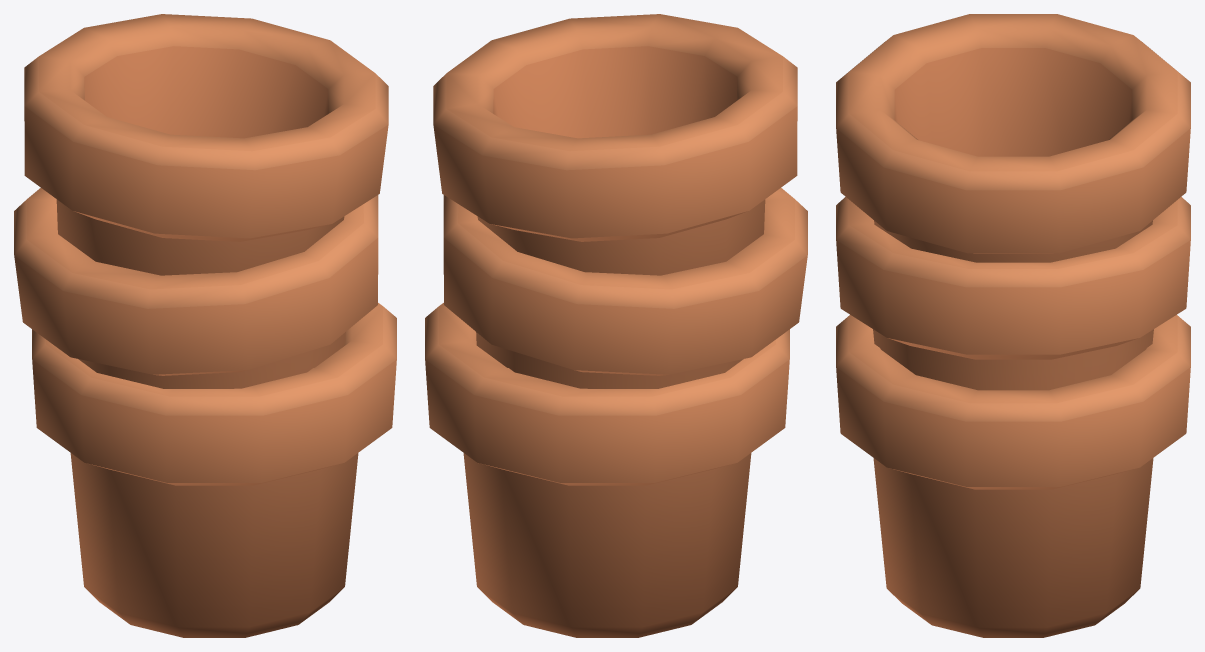
File: pots.glb
The picture shows the model from 3 angles, left to right: view 1: azimuth 30°, elevation 25°; view 2: azimuth 150°, elevation 25°; view 3: azimuth 270°, elevation 25°; orthographic projection. The views are drawn at different scales.
Parts seen in each view (by area): view 1: pots_stacked; view 2: pots_stacked; view 3: pots_stacked.
Part boxes in pixels (bbox=[...]): pots_stacked: bbox=[14, 14, 396, 637]; pots_stacked: bbox=[425, 14, 807, 637]; pots_stacked: bbox=[836, 14, 1190, 637].
Bounding box in the file's own units: 0.5284 × 0.784 × 0.5.
Materials: 1 (1 with a texture image).
